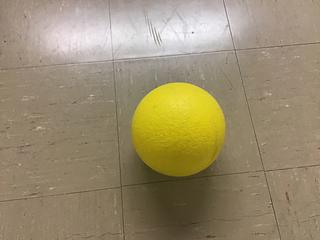power_cell: (129, 78, 236, 179)
